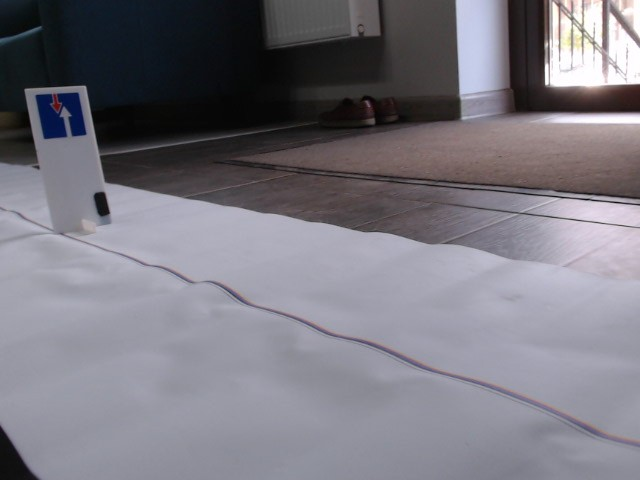priority_movement: (33, 92, 90, 140)
